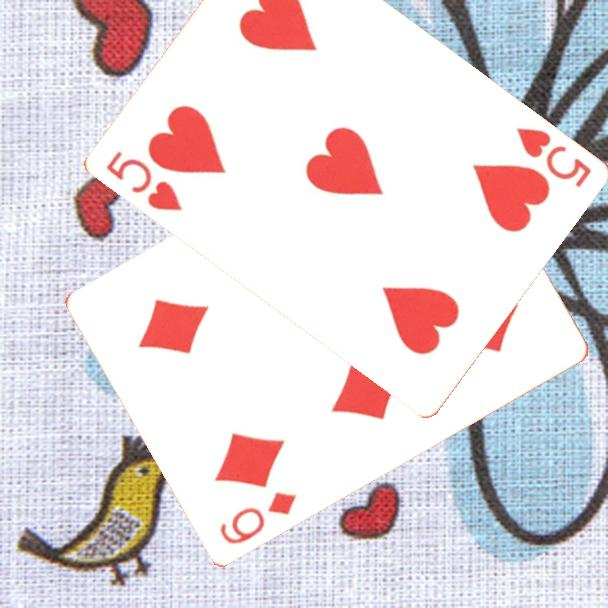d06: (216, 487, 300, 547)
h05: (512, 123, 594, 191), (102, 147, 185, 214)
